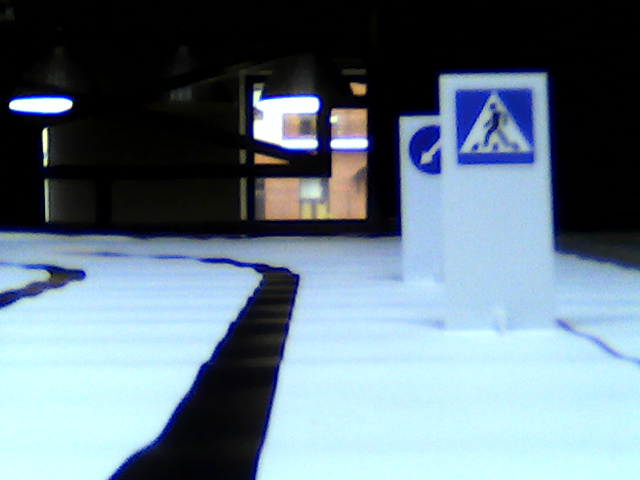pesh: (449, 86, 536, 166)
prep: (407, 126, 445, 172)
